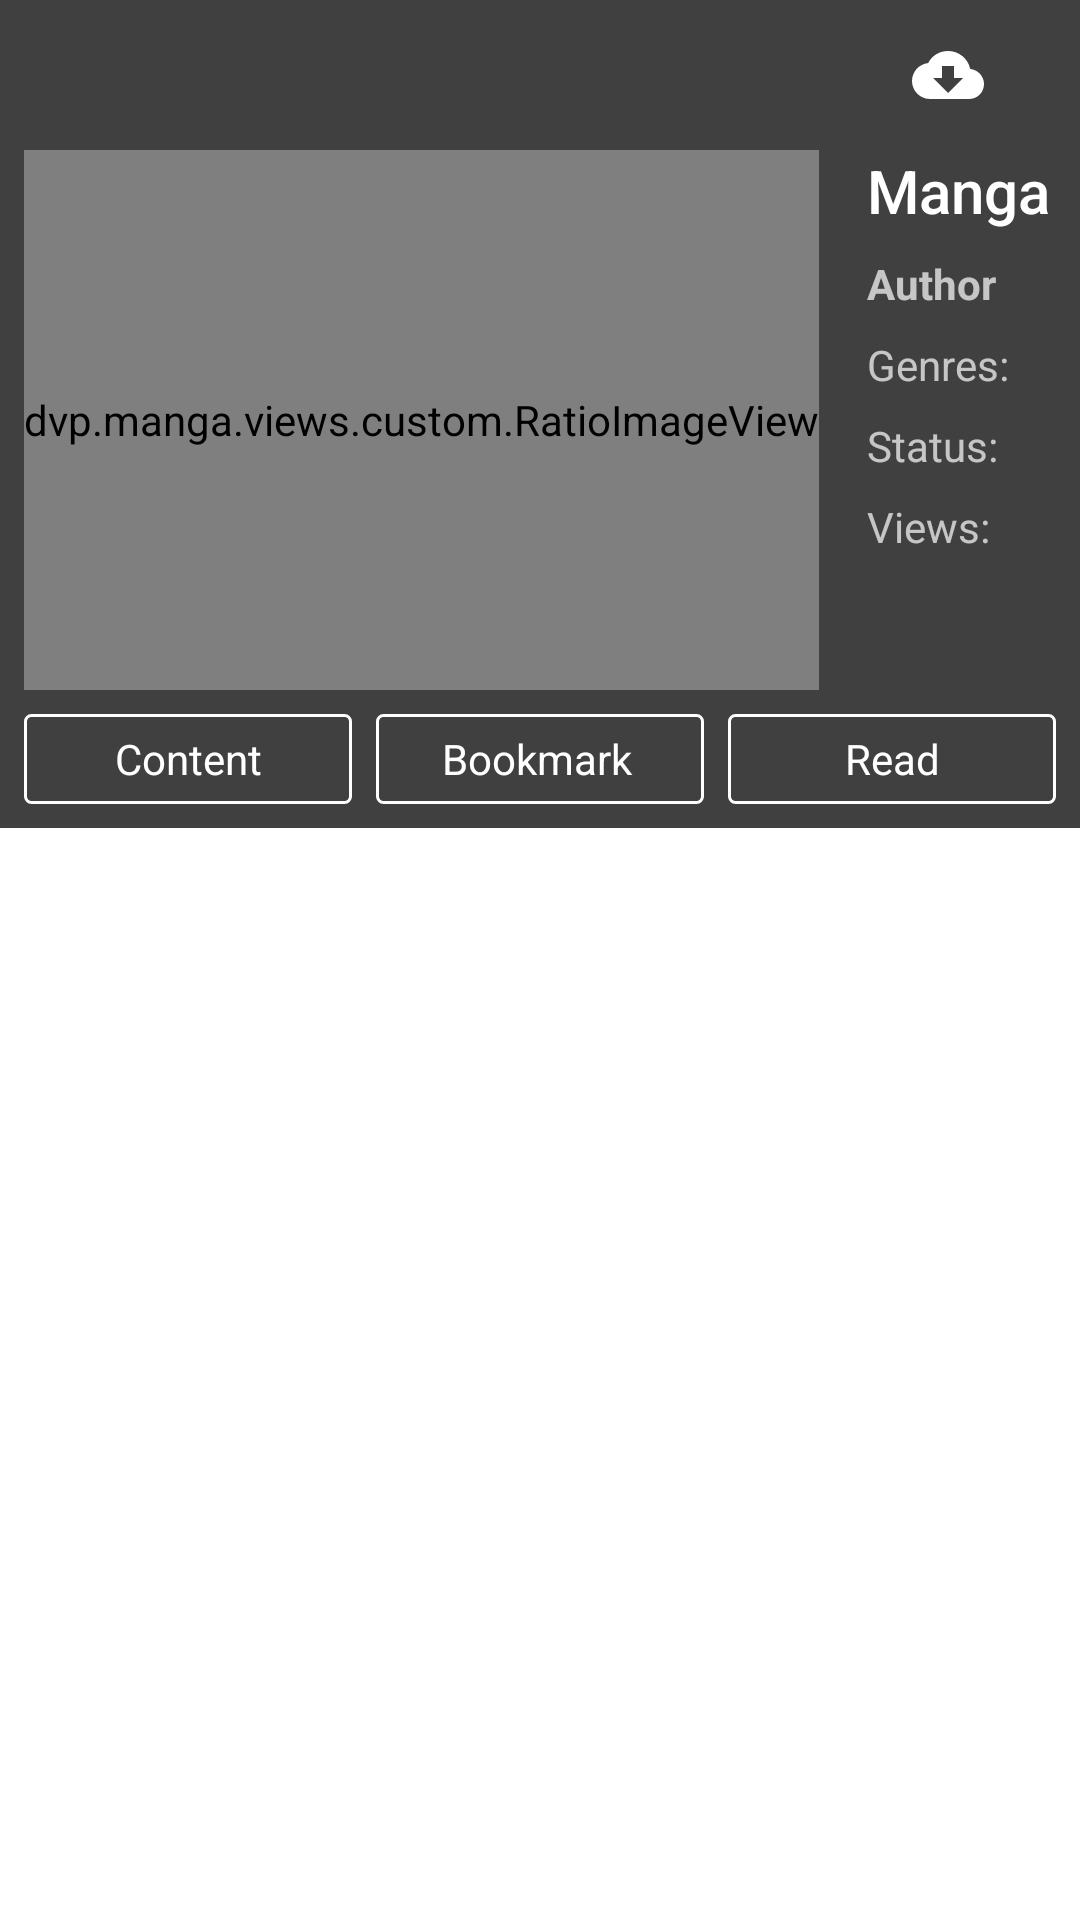

Named icons in this screenshot (1080x1920) and their bounding boxes, region(x1, y1, x2, y2):
download: region(912, 51, 984, 99)
